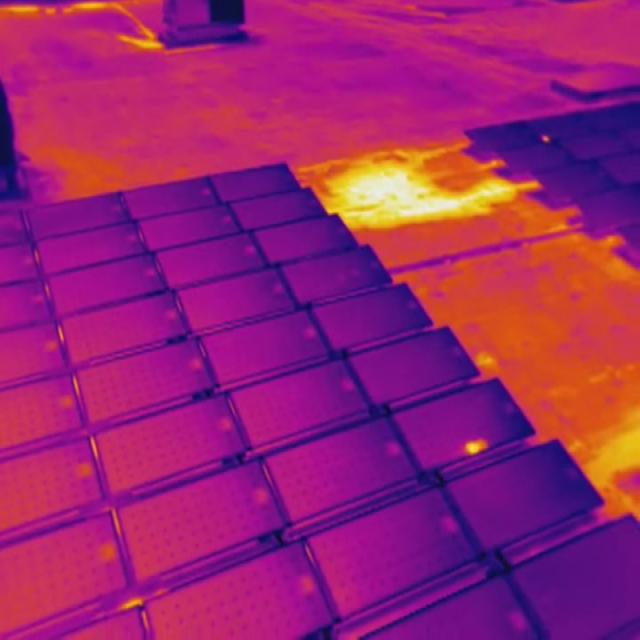Orange-Spots: (463, 438, 489, 456), (542, 135, 550, 143)
